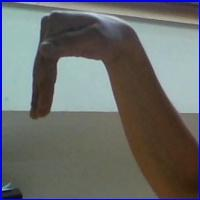A: (35, 11, 148, 131)
